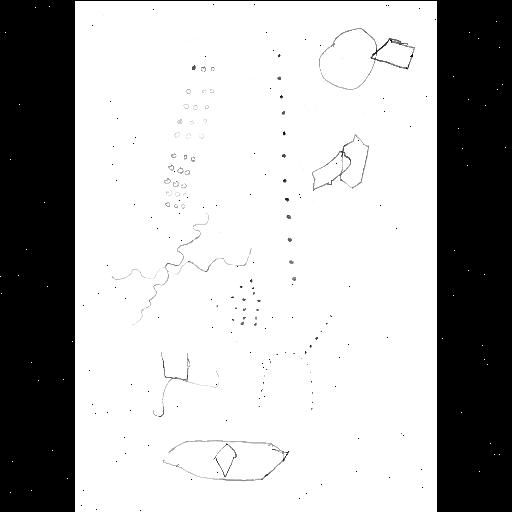shape-1: (318, 26, 416, 90)
shape-2: (273, 49, 299, 283)
shape-3: (162, 62, 214, 208)
shape-4: (214, 278, 260, 330)
shape-5: (150, 350, 222, 416)
shape-6: (258, 313, 332, 411)
shape-7: (112, 210, 250, 324)
shape-8: (310, 132, 372, 190)
shape-9: (164, 440, 288, 480)
